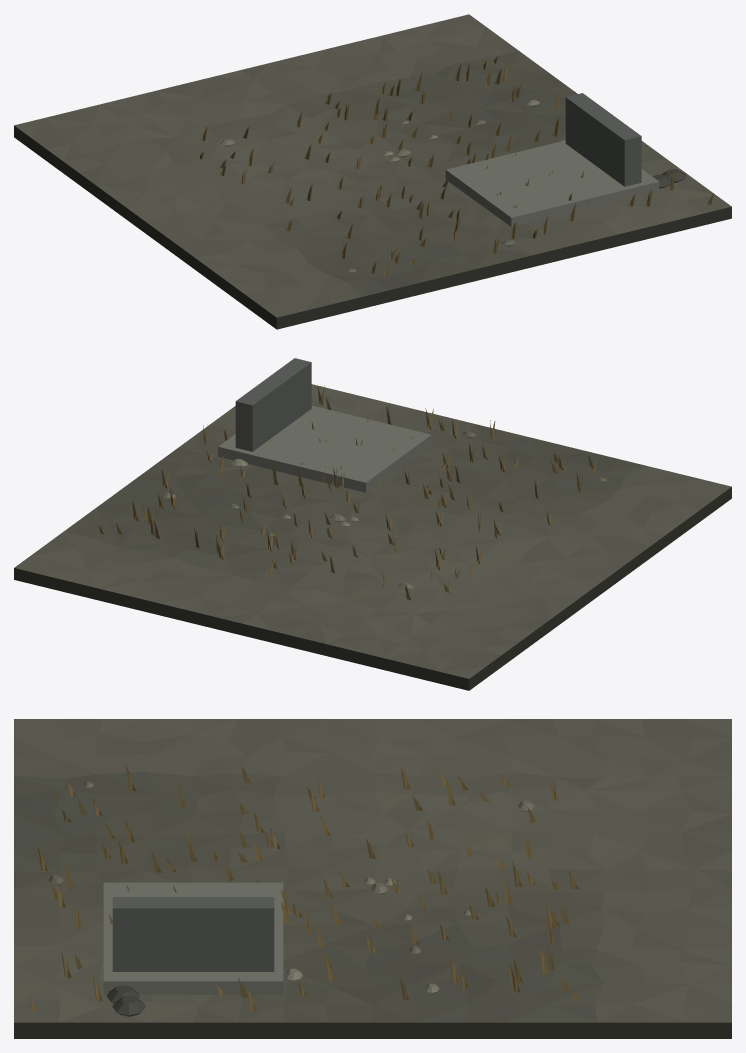
File: CHUNK_ruined_monastery__refuge_records__11.glb
3 views of the same model, one above another, from view 1: azimuth 30°, elevation 25°; view 2: azimuth 150°, elevation 25°; view 3: azimuth 270°, elevation 25° (orthographic). The views are drawn at different scales.
Visible parts, largest first — view 1: CHUNK_ruined_monastery__refuge_records__11; view 2: CHUNK_ruined_monastery__refuge_records__11; view 3: CHUNK_ruined_monastery__refuge_records__11.
Boxes of the visible parts, left/top/right/bottom form: CHUNK_ruined_monastery__refuge_records__11: left=14, top=14, right=731, bottom=329; CHUNK_ruined_monastery__refuge_records__11: left=14, top=358, right=731, bottom=690; CHUNK_ruined_monastery__refuge_records__11: left=14, top=719, right=731, bottom=1038.
Size of the model in its own units: 8 by 1.16 by 8.
